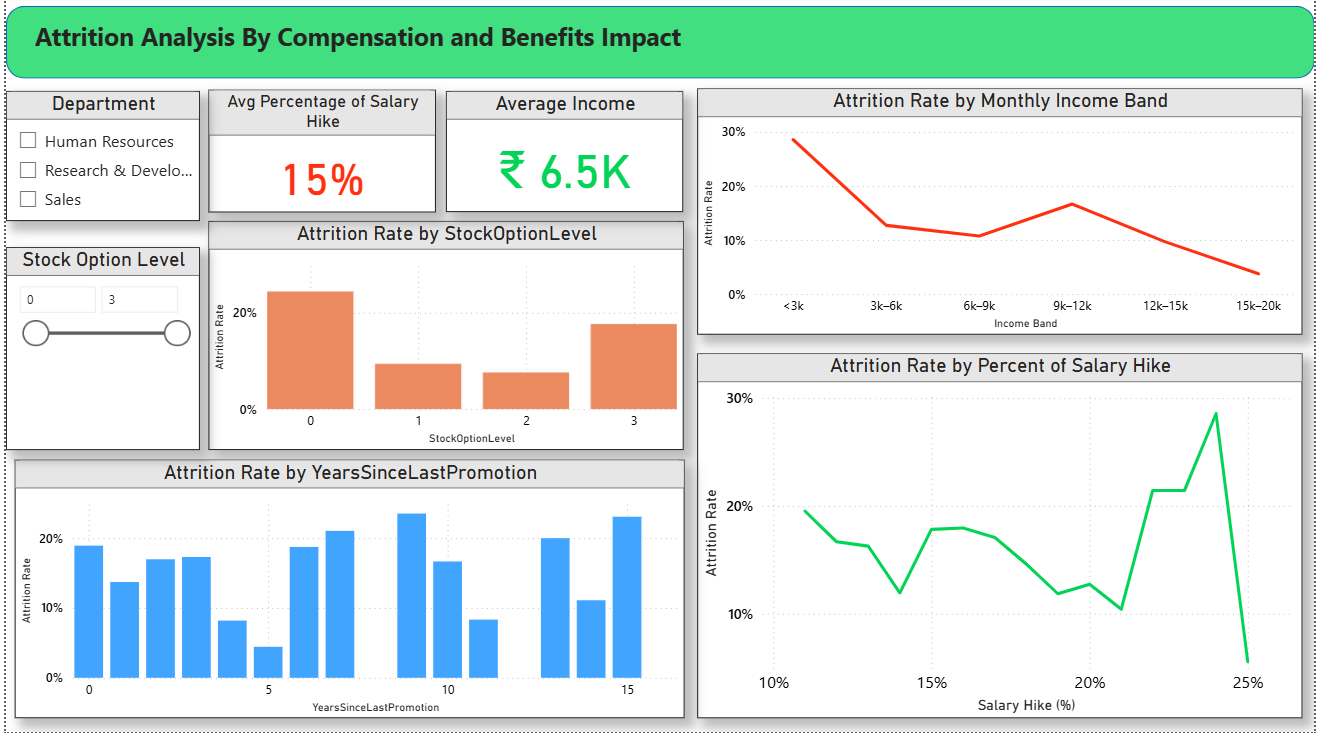

The page's visual inventory and layout, read from the dashboard file:
{"tool":"powerbi","page":{"name":"Compensation & Benefits Impact","canvas":[1280,720],"ordinal":2},"visuals":[{"type":"clusteredColumnChart","title":"Attrition Rate by StockOptionLevel","fields":{"Category":["HR-Employee-Attrition.StockOptionLevel","HR-Employee-Attrition.Department"],"Y":["HR-Employee-Attrition.Attrition Rate"]},"box":[198.1,220.1,464.7,223.8],"z":0},{"type":"lineChart","title":"Attrition Rate by Monthly Income Band","fields":{"Category":["HR-Employee-Attrition.Income Band"],"Y":["HR-Employee-Attrition.Attrition Rate"]},"box":[676.2,90.5,591.9,240.9],"z":1000},{"type":"lineChart","title":"Attrition Rate by Percent of Salary Hike ","fields":{"Y":["HR-Employee-Attrition.Attrition Rate"],"Category":["HR-Employee-Attrition.Salary Hike (%)"]},"box":[676.2,349.7,591.9,357.1],"z":2000},{"type":"card","title":"Avg Percentage of Salary Hike","fields":{"Values":["Avg(HR-Employee-Attrition.Salary Hike (%))"]},"box":[198.1,91.7,222.6,119.8],"z":3000},{"type":"card","title":"Average Income","fields":{"Values":["HR-Employee-Attrition.Average Income"]},"box":[430.4,92.9,232.3,118.6],"z":4000},{"type":"shape","box":[0,9.8,1280.3,70.9],"z":5000},{"type":"textbox","box":[23.2,18.3,1232.6,53.8],"z":6000},{"type":"clusteredColumnChart","fields":{"Category":["HR-Employee-Attrition.YearsSinceLastPromotion"],"Y":["HR-Employee-Attrition.Attrition Rate"]},"box":[8.6,453.7,655.4,253.1],"z":7000},{"type":"slicer","title":"Department","fields":{"Values":["HR-Employee-Attrition.Department"]},"box":[0,92.9,189.5,127.2],"z":8000},{"type":"slicer","title":"Stock Option Level","fields":{"Values":["HR-Employee-Attrition.StockOptionLevel"]},"box":[0,245.8,189.5,198.1],"z":9000}]}

Visuals, with their boxes in screenshot pixels (x1, y1, x2, y2), scaled from the page's 1280x720 canvas onto the 1320x733 screenshot:
"Attrition Rate by StockOptionLevel" clusteredColumnChart: 204,224,684,452
"Attrition Rate by Monthly Income Band" lineChart: 697,92,1308,337
"Attrition Rate by Percent of Salary Hike " lineChart: 697,356,1308,720
"Avg Percentage of Salary Hike" card: 204,93,434,215
"Average Income" card: 444,95,683,215
shape: 0,10,1319,82
textbox: 24,19,1295,73
clusteredColumnChart - HR-Employee-Attrition.YearsSinceLastPromotion x HR-Employee-Attrition.Attrition Rate: 9,462,685,720
"Department" slicer: 0,95,195,224
"Stock Option Level" slicer: 0,250,195,452
